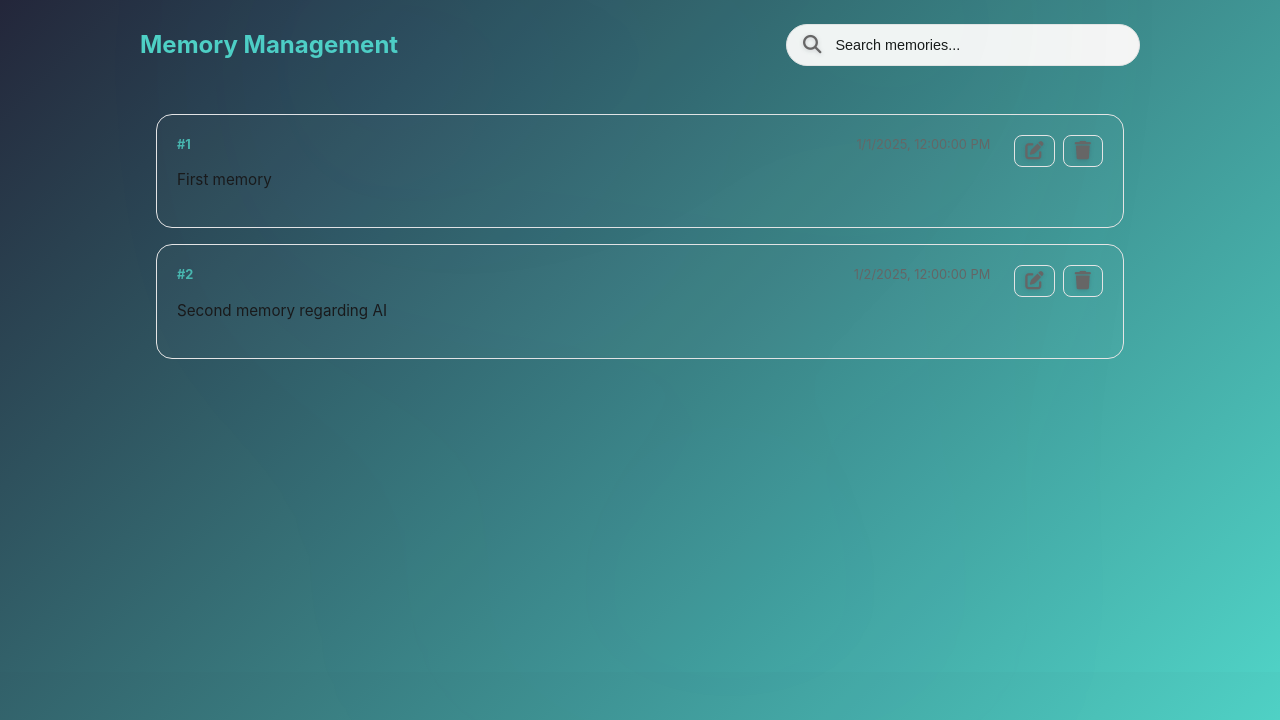
Test case: MemoryManager › deletes a memory
This screenshot has width=1280, height=720.
Click the button with class "delete" next to "1/1/2025, 12:00:00 PM". click: (1083, 151)
box: x1=1063 y1=135 x2=1103 y2=167
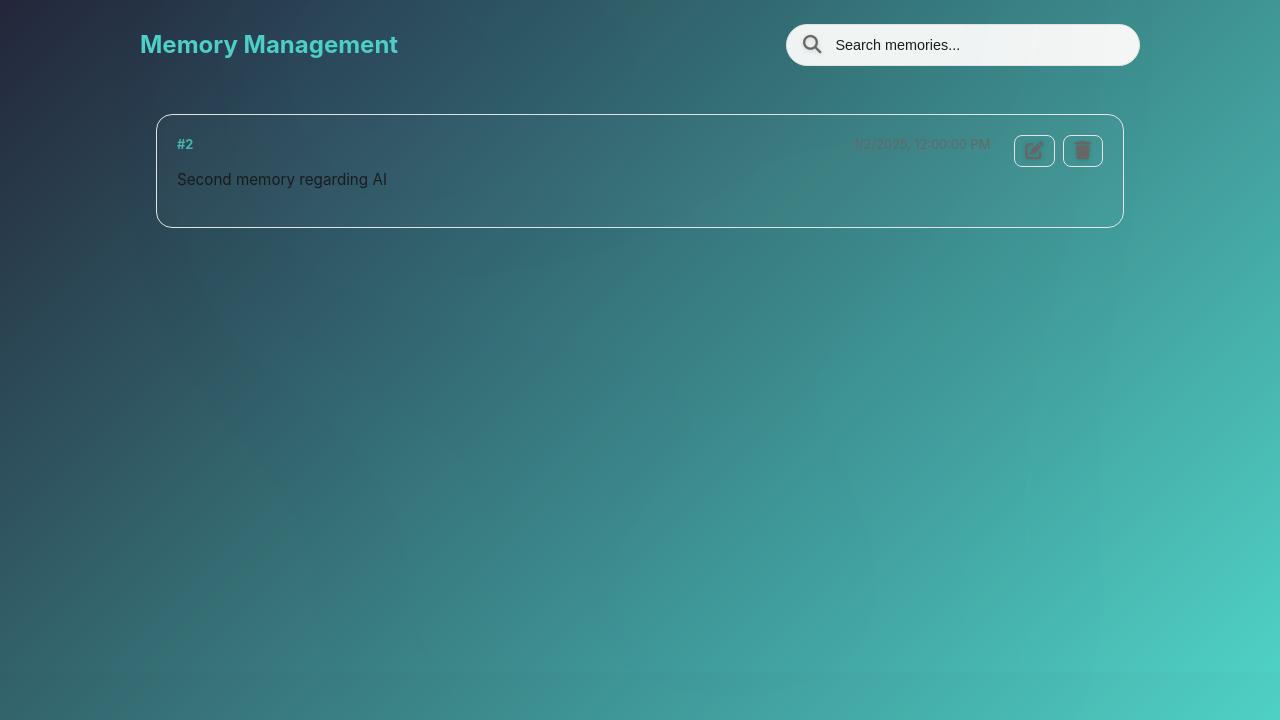
Check: the text "Second memory" is shown, box x1=177 y1=170 x2=387 y2=189
Check: the text "First memory" is gone
